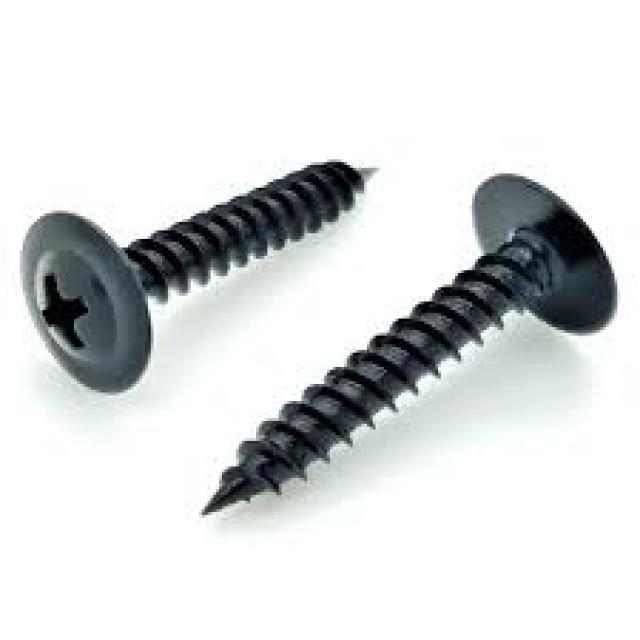Screw: (202, 174, 620, 518), (20, 159, 378, 393)
